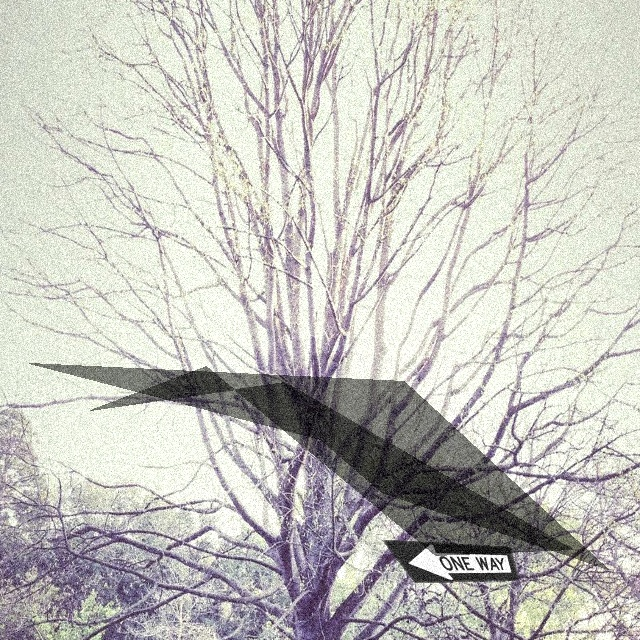ONE_WAY_ left: (381, 539, 519, 583)
